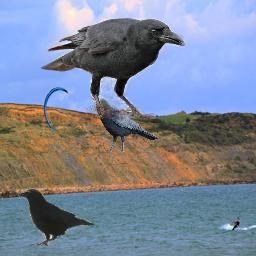Crow: (40, 18, 185, 119), (16, 187, 94, 246), (91, 97, 158, 153)
